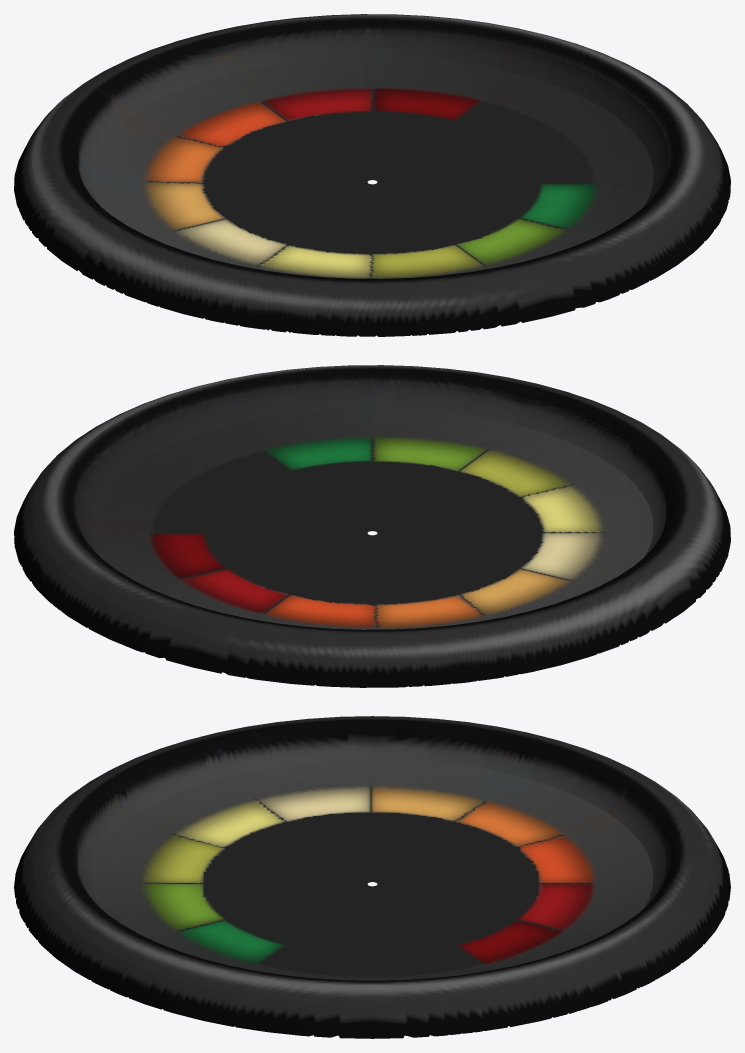
Rendered from Gauge.obj.
3 views of the same model, one above another, from view 1: azimuth 30°, elevation 25°; view 2: azimuth 150°, elevation 25°; view 3: azimuth 270°, elevation 25° (orthographic).
Visible parts, largest first — view 1: Circle; view 2: Circle; view 3: Circle.
Boxes of the visible parts, x1=… form: Circle: x1=14, y1=14, x2=730, y2=336; Circle: x1=14, y1=365, x2=730, y2=687; Circle: x1=14, y1=716, x2=730, y2=1038.
Bounding box in the file's own units: 2.32 × 0.1287 × 2.32.
